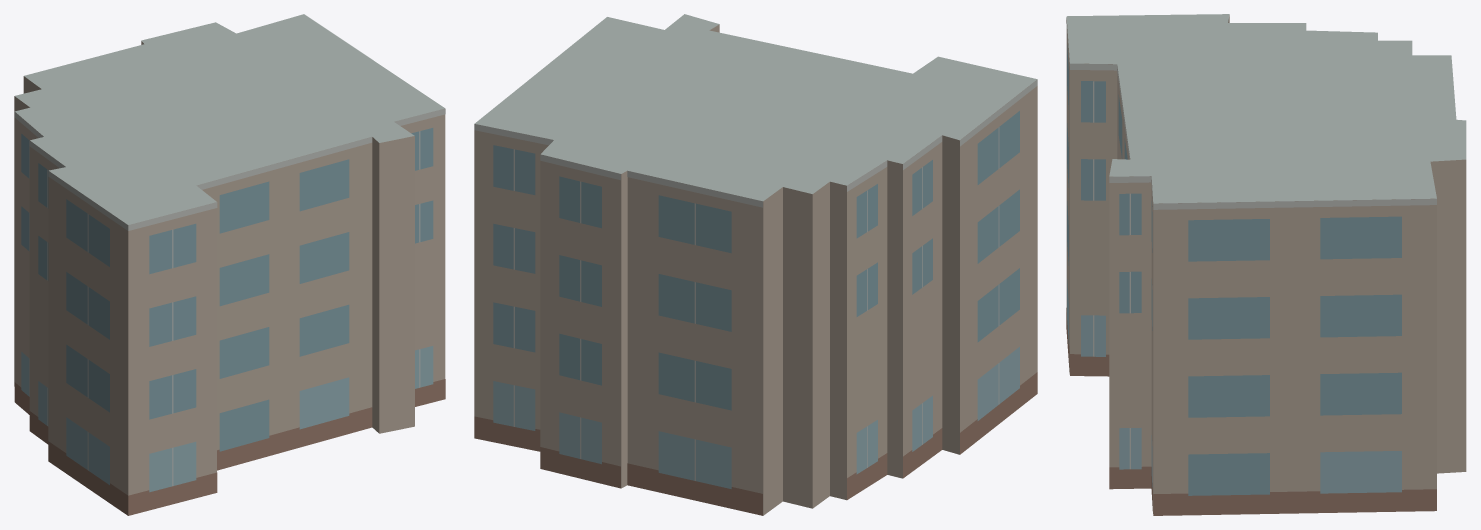
Rendered from survey-upis-33020313.glb.
The picture shows the model from 3 angles, left to right: view 1: azimuth 30°, elevation 25°; view 2: azimuth 150°, elevation 25°; view 3: azimuth 270°, elevation 25°; orthographic projection. The views are drawn at different scales.
Visible parts, largest first — view 1: survey-upis-33020313.tmp; view 2: survey-upis-33020313.tmp; view 3: survey-upis-33020313.tmp.
Part boxes in pixels (bbox=[...]): survey-upis-33020313.tmp: bbox=[14, 14, 445, 515]; survey-upis-33020313.tmp: bbox=[474, 14, 1037, 515]; survey-upis-33020313.tmp: bbox=[1066, 14, 1466, 515].
Size of the model in its own units: 15.63 by 12 by 13.93.
